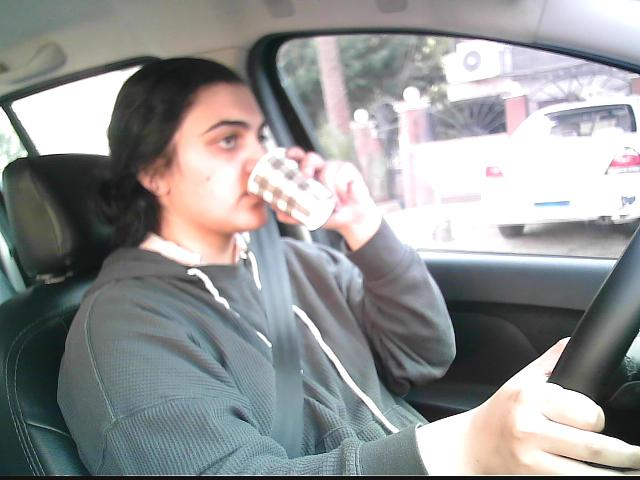Drinking: (243, 138, 338, 235)
